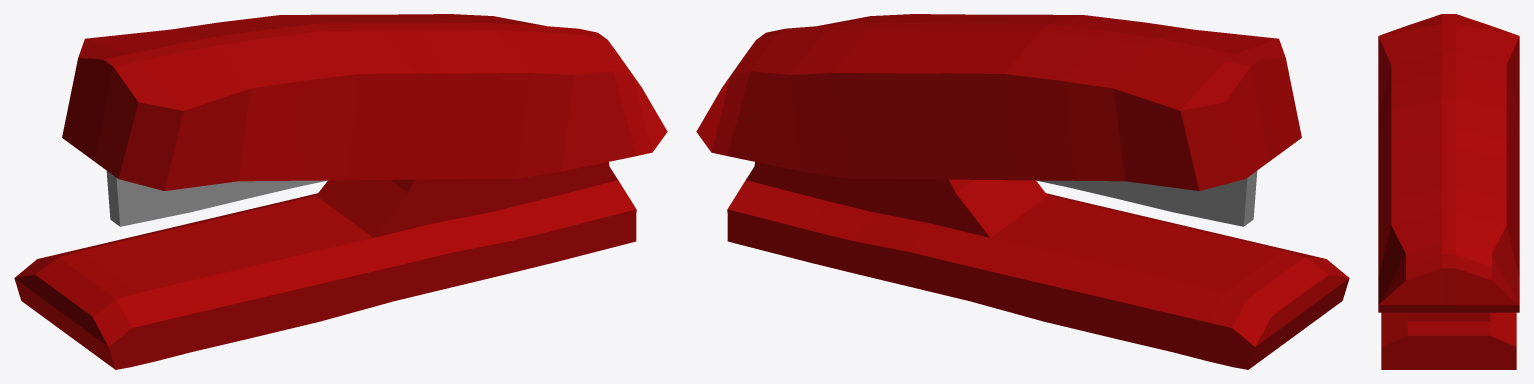
Rendered from stapler.fbx.
3 renders of one model, left to right at view 1: azimuth 30°, elevation 25°; view 2: azimuth 150°, elevation 25°; view 3: azimuth 270°, elevation 25°, orthographic. The views are drawn at different scales.
Visible parts, largest first — view 1: Cube; view 2: Cube; view 3: Cube.
Boxes of the visible parts, bbox=[...] form: Cube: bbox=[14, 14, 667, 369]; Cube: bbox=[696, 14, 1349, 369]; Cube: bbox=[1378, 14, 1519, 369].
Size of the model in its own units: 978 by 443 by 300.
